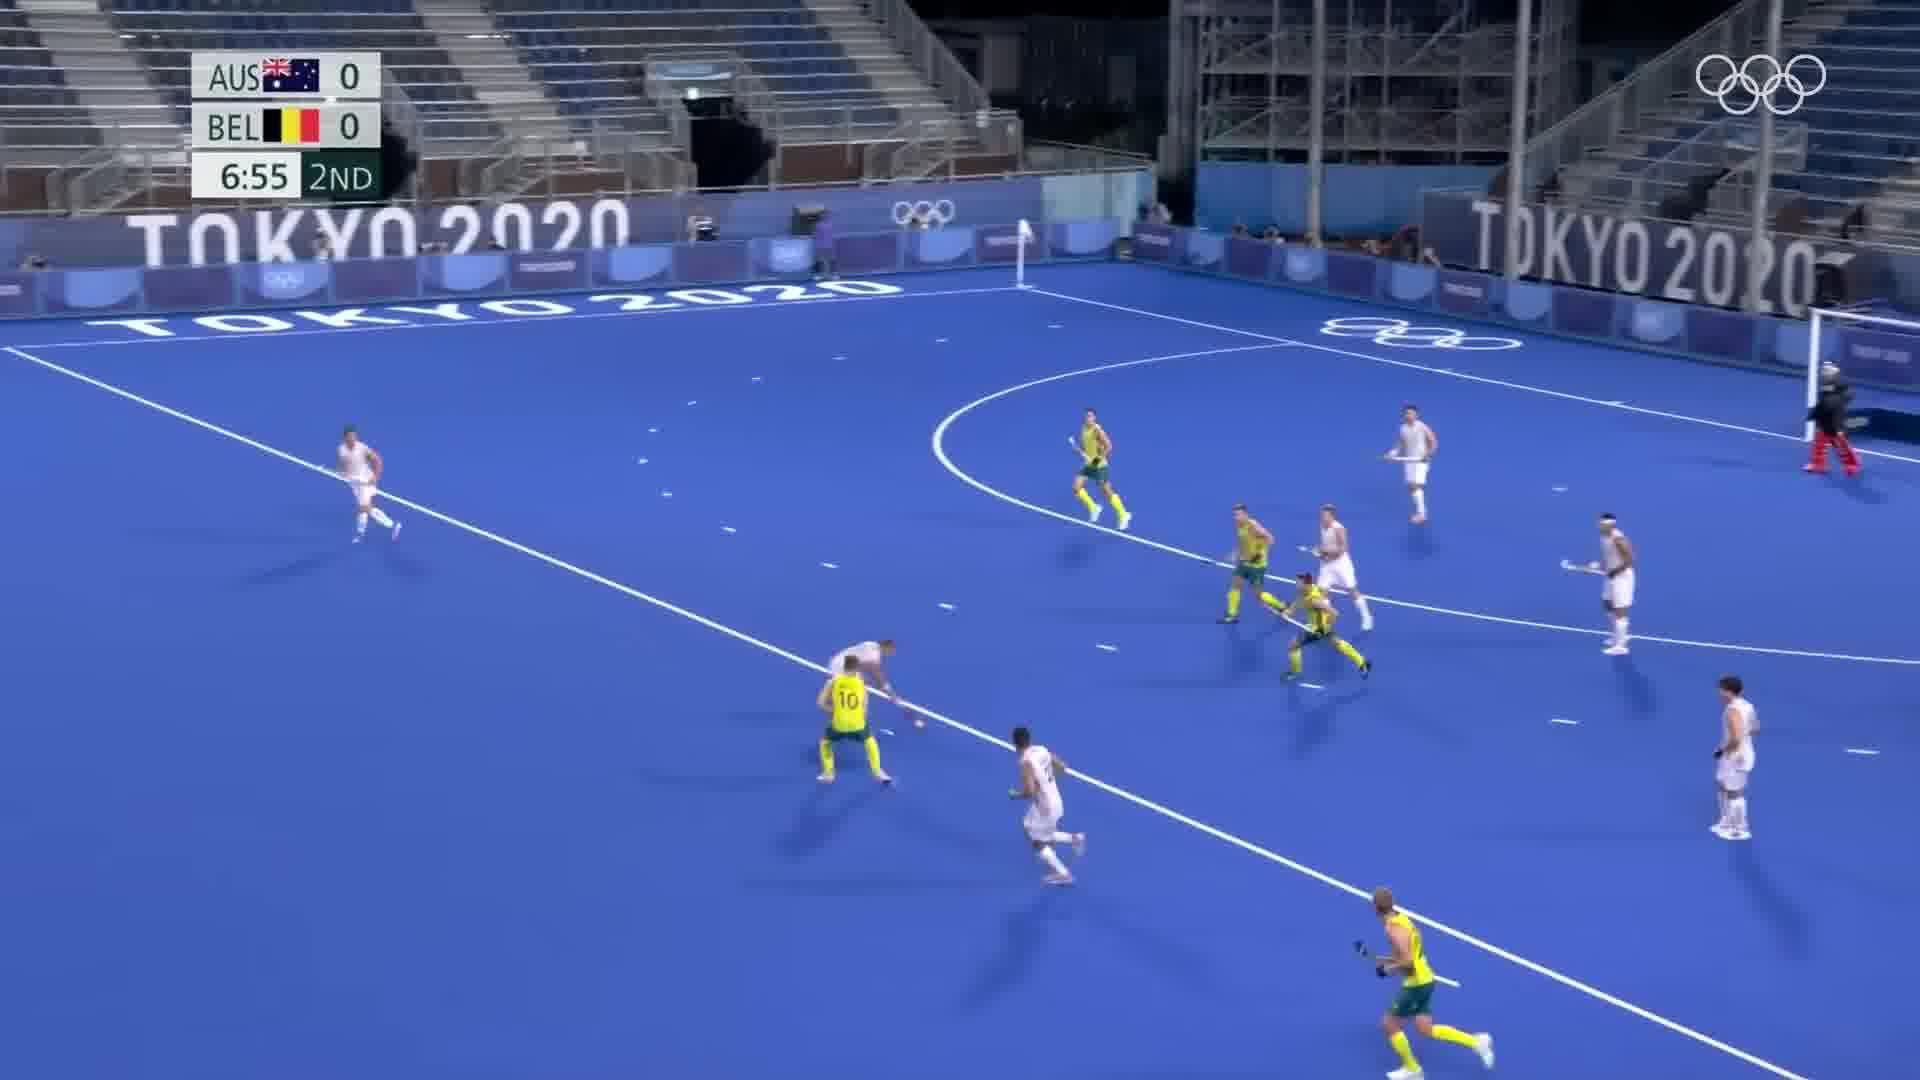ball: (911, 711, 930, 733)
